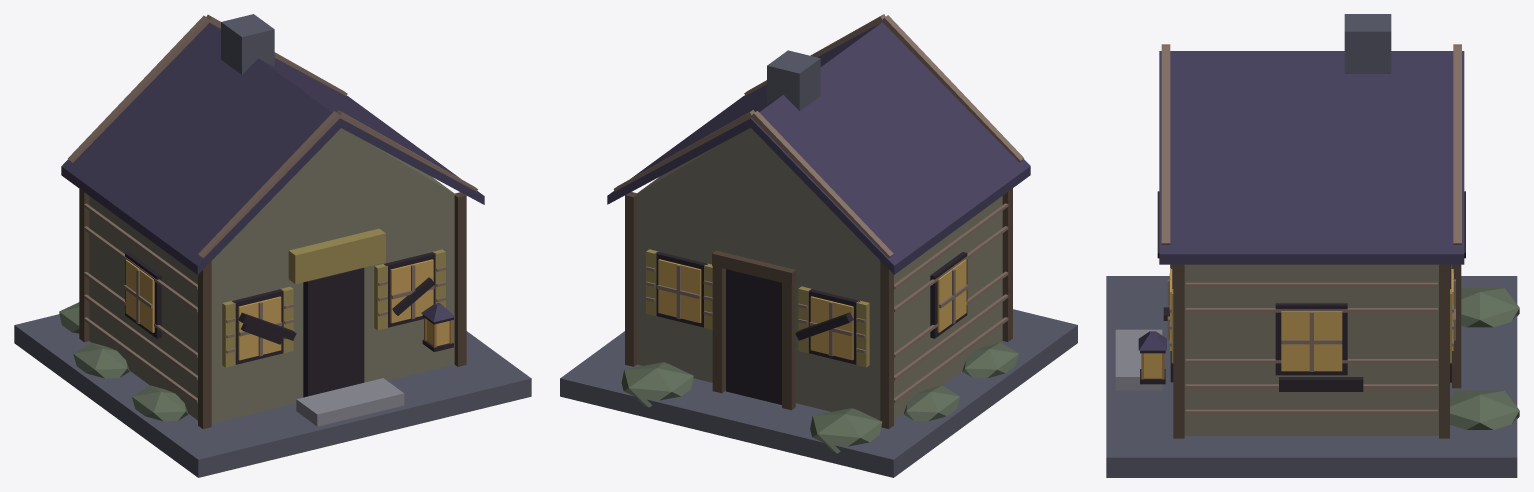
File: HauntedWoods_CrookedCottage_Showcase.glb
The picture shows the model from 3 angles, left to right: view 1: azimuth 30°, elevation 25°; view 2: azimuth 150°, elevation 25°; view 3: azimuth 270°, elevation 25°; orthographic projection. The views are drawn at different scales.
Visible parts, largest first — view 1: HauntedWoods_CrookedCottage_Showcase; view 2: HauntedWoods_CrookedCottage_Showcase; view 3: HauntedWoods_CrookedCottage_Showcase.
Part boxes in pixels (bbox=[...]): HauntedWoods_CrookedCottage_Showcase: bbox=[14, 14, 531, 477]; HauntedWoods_CrookedCottage_Showcase: bbox=[560, 14, 1077, 477]; HauntedWoods_CrookedCottage_Showcase: bbox=[1106, 14, 1519, 477].
Bounding box in the file's own units: 4.6 × 4.3 × 4.43.
